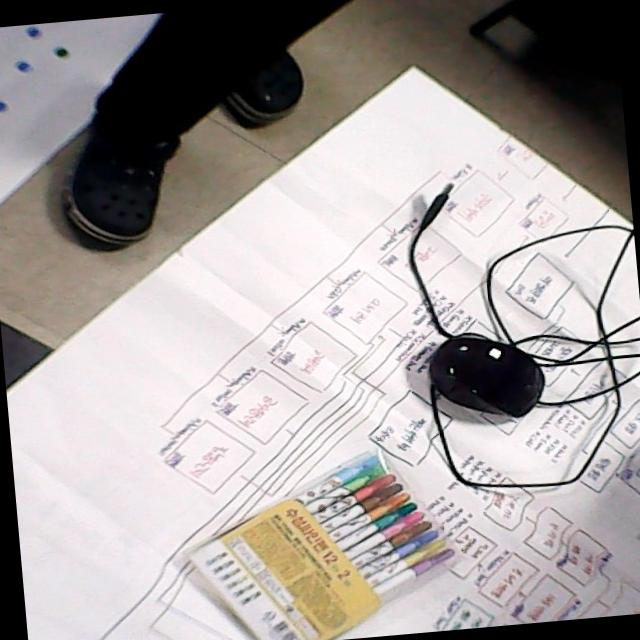mouse: (421, 330, 550, 423)
signpen: (169, 439, 470, 640)
